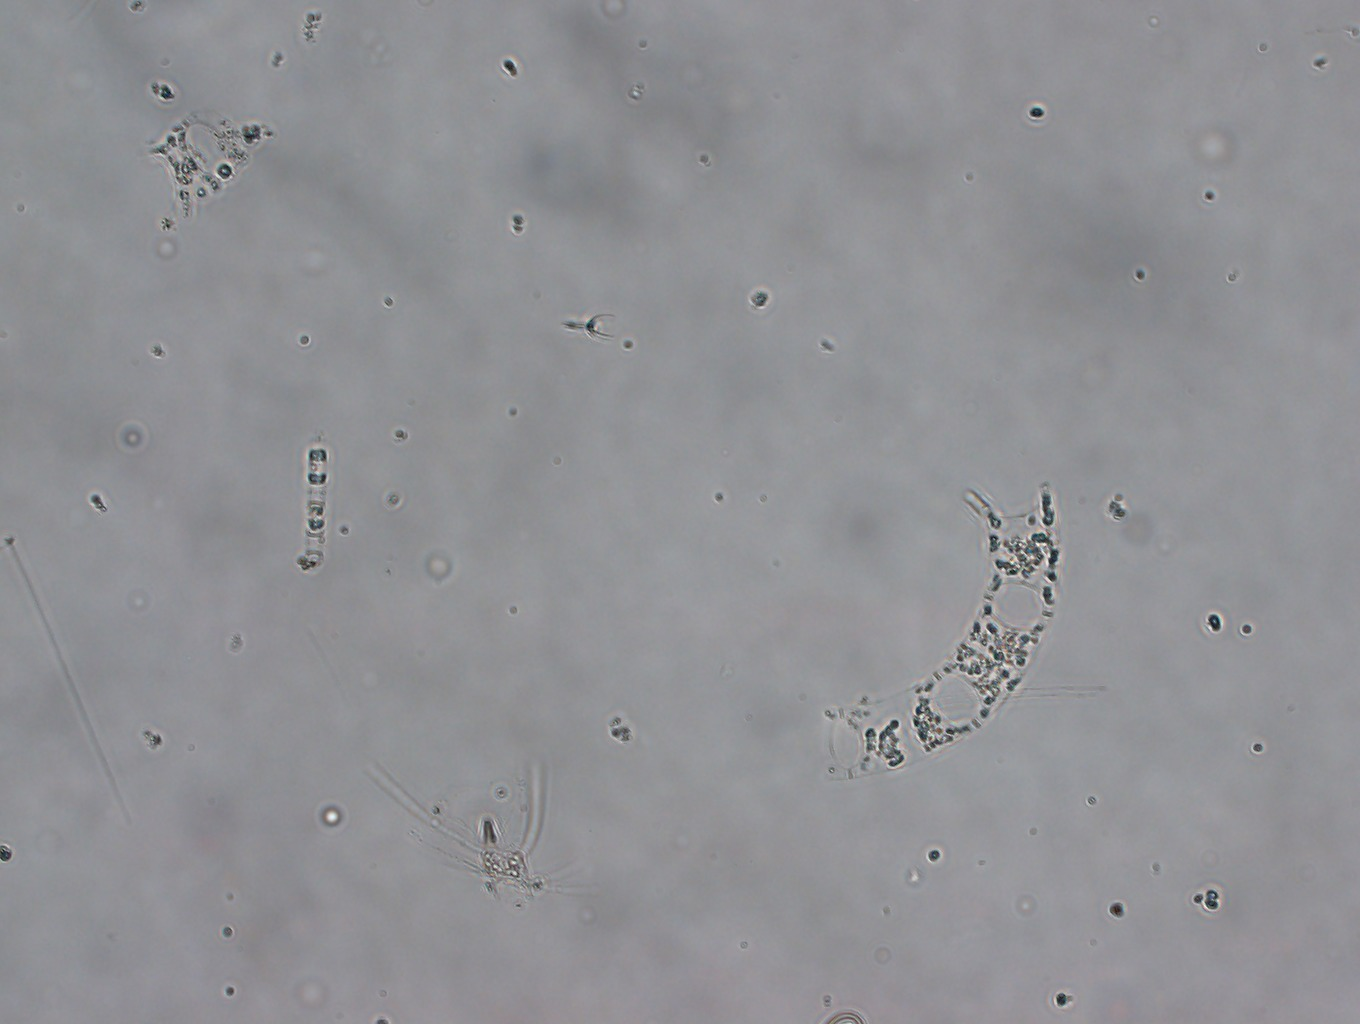eucampia: (807, 459, 1070, 792)
skeletonema: (285, 432, 342, 575)
